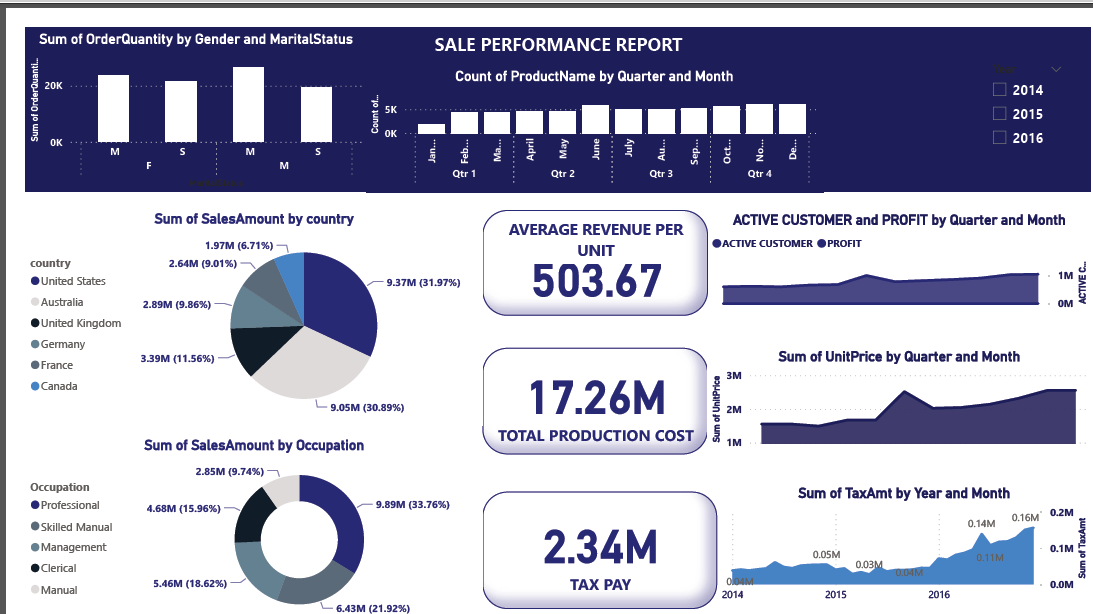

What the dashboard file says about the page in this screenshot:
{"tool":"powerbi","page":{"name":"Page 2","canvas":[1280,720],"ordinal":1},"visuals":[{"type":"textbox","box":[0,0,1280.2,197.3],"z":0},{"type":"areaChart","fields":{"Y2":["MASTERTABLE2.ACTIVE CUSTOMER","MASTERTABLE2.PROFIT"],"Category":["MASTERTABLE2.ORDER_DATE.Variation.Date Hierarchy.Quarter","MASTERTABLE2.ORDER_DATE.Variation.Date Hierarchy.Month"]},"box":[819.4,220.3,460.8,125.3],"z":1000},{"type":"card","title":"AVERAGE REVENUE PER UNIT","fields":{"Values":["MASTERTABLE2.ARPU"]},"box":[548.6,218.9,270.7,126.7],"z":2000},{"type":"slicer","fields":{"Values":["MASTERTABLE2.ORDER_DATE.Variation.Date Hierarchy.Year"]},"box":[1149.1,36,108,118.1],"z":3000},{"type":"card","fields":{"Values":["MASTERTABLE2.TOTAL PRODUCTION COST"]},"box":[548.6,384.5,270.7,128.2],"z":4000},{"type":"areaChart","fields":{"Y":["Sum(MASTERTABLE2.UnitPrice)"],"Category":["MASTERTABLE2.ORDER_DATE.Variation.Date Hierarchy.Quarter","MASTERTABLE2.ORDER_DATE.Variation.Date Hierarchy.Month"]},"box":[819.4,384.5,460.8,128.2],"z":5000},{"type":"columnChart","fields":{"Category":["MASTERTABLE2.ORDER_DATE.Variation.Date Hierarchy.Quarter","MASTERTABLE2.ORDER_DATE.Variation.Date Hierarchy.Month"],"Y":["CountNonNull(MASTERTABLE2.ProductName)"]},"box":[409,47.5,548.6,149.8],"z":6000},{"type":"areaChart","fields":{"Y2":["Sum(MASTERTABLE2.TaxAmt)"],"Category":["MASTERTABLE2.ORDER_DATE.Variation.Date Hierarchy.Year","MASTERTABLE2.ORDER_DATE.Variation.Date Hierarchy.Month"]},"box":[830.9,548.6,449.3,149.8],"z":7000},{"type":"card","fields":{"Values":["MASTERTABLE2.TAX PAY"]},"box":[548.6,557.3,282.2,141.1],"z":8000},{"type":"pieChart","fields":{"Category":["MASTERTABLE2.country"],"Y":["Sum(MASTERTABLE2.SalesAmount)"]},"box":[0,218.9,548.6,259.2],"z":9000},{"type":"donutChart","fields":{"Category":["MASTERTABLE2.Occupation"],"Y":["Sum(MASTERTABLE2.SalesAmount)"]},"box":[0,491,548.6,229],"z":10000},{"type":"columnChart","fields":{"Category":["MASTERTABLE2.Gender","MASTERTABLE2.MaritalStatus"],"Y":["Sum(MASTERTABLE2.OrderQuantity)"]},"box":[0,2.9,409,194.4],"z":11000}]}

Visuals, with their boxes in screenshot pixels (x1, y1, x2, y2), scaled from the page's 1280x720 canvas onto the 1093x614 screenshot:
textbox: x1=0 y1=0 x2=1092 y2=168
areaChart - MASTERTABLE2.ACTIVE CUSTOMER x MASTERTABLE2.PROFIT: x1=700 y1=188 x2=1092 y2=295
"AVERAGE REVENUE PER UNIT" card: x1=468 y1=187 x2=700 y2=295
slicer - MASTERTABLE2.ORDER_DATE.Variation.Date Hierarchy.Year: x1=981 y1=31 x2=1073 y2=131
card - MASTERTABLE2.TOTAL PRODUCTION COST: x1=468 y1=328 x2=700 y2=437
areaChart - Sum(MASTERTABLE2.UnitPrice) x MASTERTABLE2.ORDER_DATE.Variation.Date Hierarchy.Quarter: x1=700 y1=328 x2=1092 y2=437
columnChart - MASTERTABLE2.ORDER_DATE.Variation.Date Hierarchy.Quarter x MASTERTABLE2.ORDER_DATE.Variation.Date Hierarchy.Month: x1=349 y1=41 x2=818 y2=168
areaChart - Sum(MASTERTABLE2.TaxAmt) x MASTERTABLE2.ORDER_DATE.Variation.Date Hierarchy.Year: x1=710 y1=468 x2=1092 y2=596
card - MASTERTABLE2.TAX PAY: x1=468 y1=475 x2=709 y2=596
pieChart - MASTERTABLE2.country x Sum(MASTERTABLE2.SalesAmount): x1=0 y1=187 x2=468 y2=408
donutChart - MASTERTABLE2.Occupation x Sum(MASTERTABLE2.SalesAmount): x1=0 y1=419 x2=468 y2=613
columnChart - MASTERTABLE2.Gender x MASTERTABLE2.MaritalStatus: x1=0 y1=2 x2=349 y2=168
